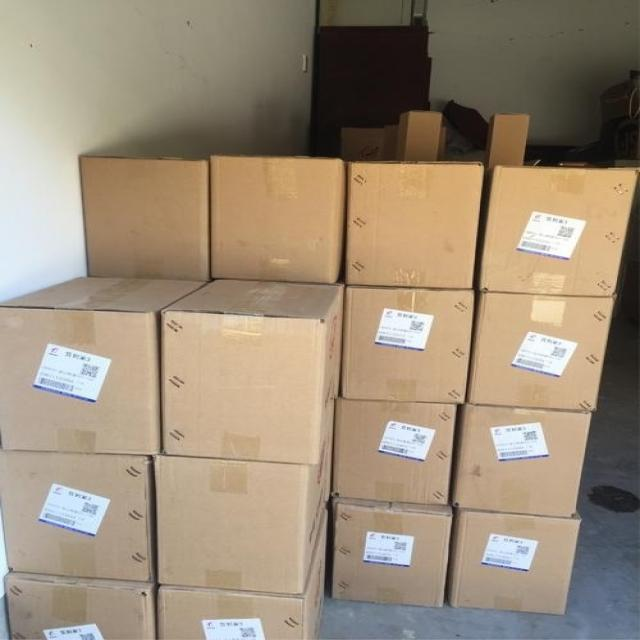box: (0, 274, 207, 453), (161, 280, 344, 464), (151, 456, 328, 593), (159, 507, 326, 639), (1, 450, 157, 581), (481, 166, 639, 295), (467, 292, 616, 412), (209, 155, 347, 284), (346, 160, 484, 288), (78, 155, 210, 280), (340, 287, 475, 404), (456, 405, 593, 517), (449, 508, 582, 615), (332, 398, 457, 504), (333, 499, 453, 606), (3, 570, 155, 640), (486, 112, 530, 170), (396, 110, 443, 160), (339, 125, 397, 161)
